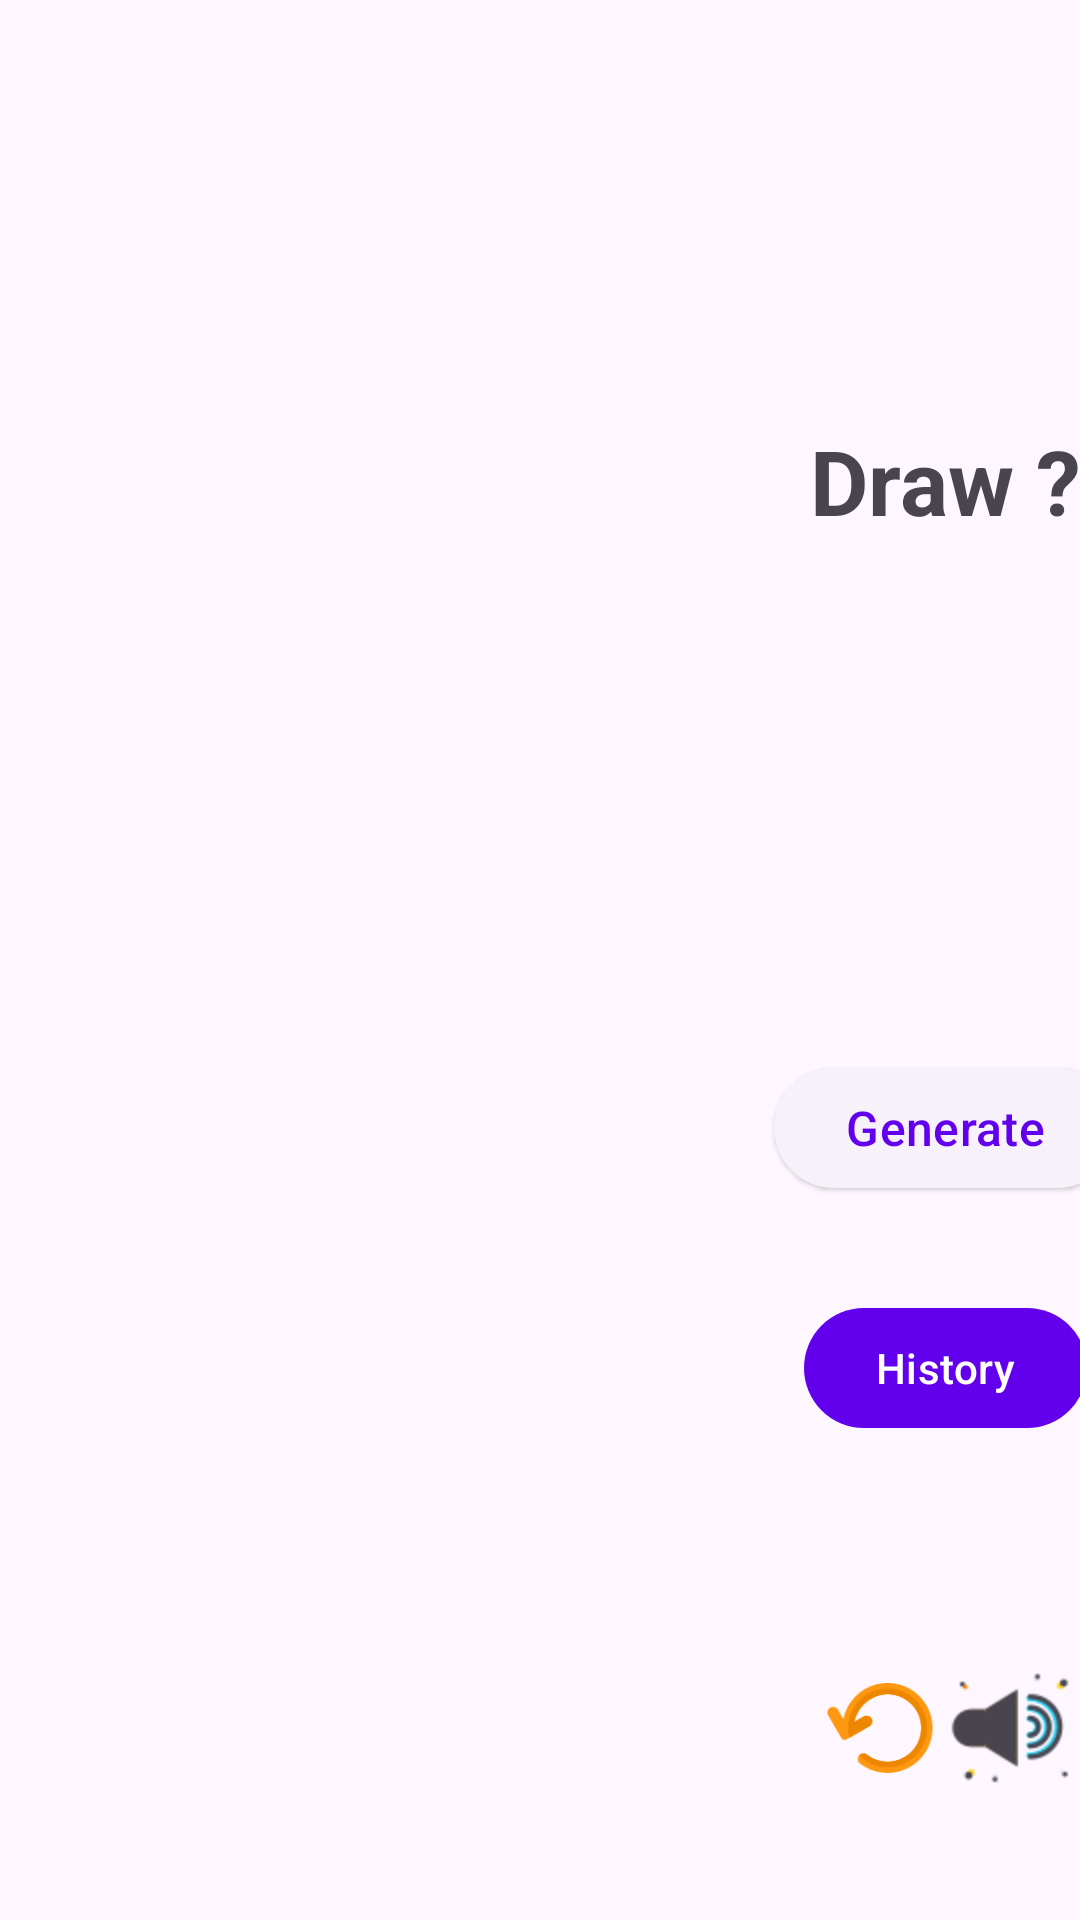

Icon click points for this 1080×1920 phone screenshot, format point (x, y):
reset: point (880, 1728)
